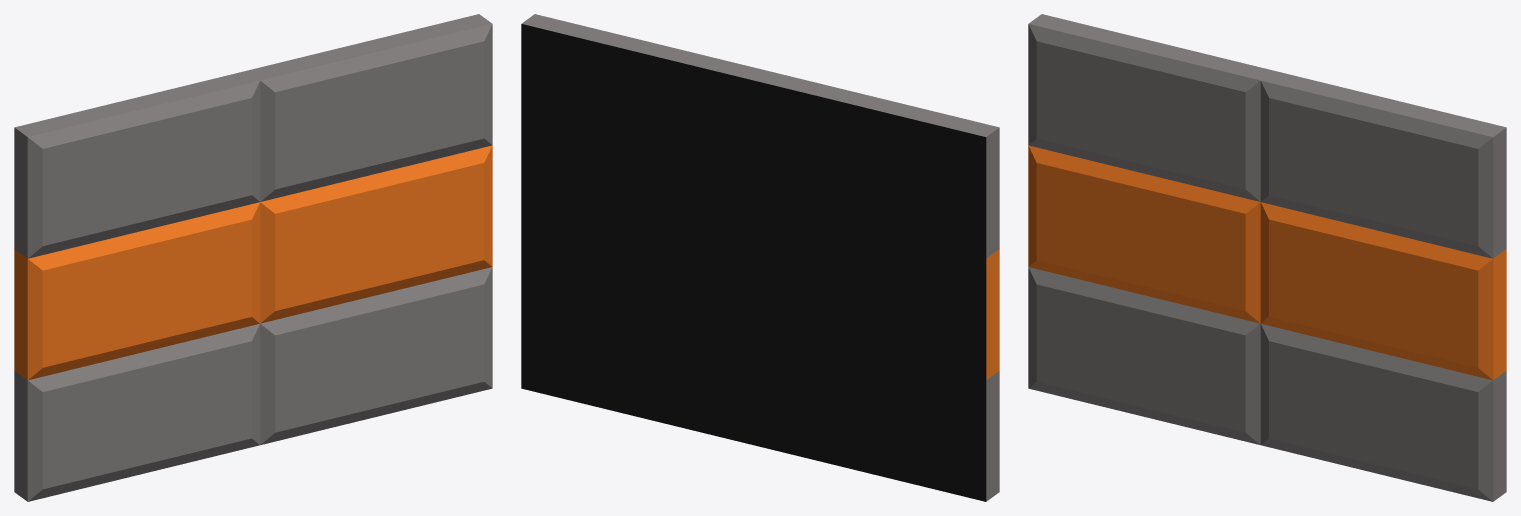
The model's file is scifi_scifi-wall-stripe.fbx.
The picture shows the model from 3 angles, left to right: view 1: azimuth 30°, elevation 25°; view 2: azimuth 150°, elevation 25°; view 3: azimuth 330°, elevation 25°; orthographic projection.
Parts seen in each view (by area): view 1: scifi_scifi_wall_stripe; view 2: scifi_scifi_wall_stripe; view 3: scifi_scifi_wall_stripe.
Boxes of the visible parts, box(x1,y1,x2,y2) form: scifi_scifi_wall_stripe: box(14, 14, 492, 501); scifi_scifi_wall_stripe: box(521, 14, 999, 501); scifi_scifi_wall_stripe: box(1028, 14, 1506, 501).
Size of the model in its own units: 200 by 150 by 12.5.
